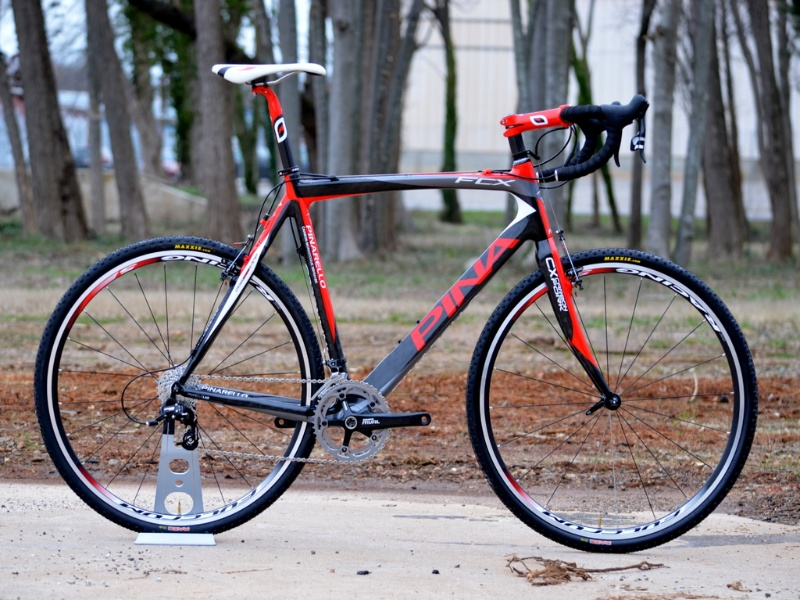bicycle: (31, 49, 762, 562)
